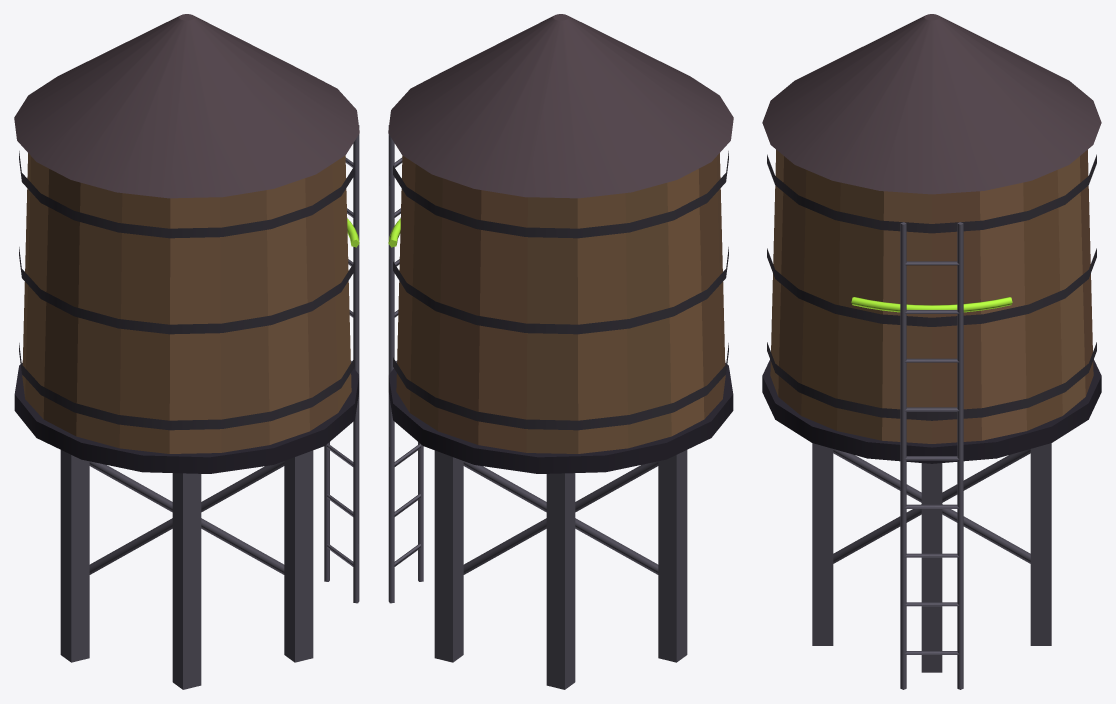
Rendered from water_tank.glb.
The picture shows the model from 3 angles, left to right: view 1: azimuth 30°, elevation 25°; view 2: azimuth 150°, elevation 25°; view 3: azimuth 270°, elevation 25°; orthographic projection. The views are drawn at different scales.
Parts seen in each view (by area): view 1: Tank; view 2: Tank; view 3: Tank, Neon_b6ff3b.
Boxes of the visible parts, x1=… form: Tank: x1=14, y1=14, x2=359, y2=689; Tank: x1=388, y1=14, x2=733, y2=689; Tank: x1=762, y1=14, x2=1101, y2=689; Neon_b6ff3b: x1=851, y1=297, x2=1012, y2=312.
Bounding box in the file's own units: 2.69 × 5.1 × 2.62.
